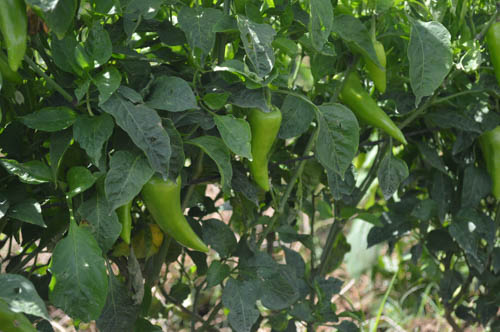ChiliPepper: (150, 175, 206, 256), (348, 77, 407, 143), (241, 107, 281, 203), (1, 3, 25, 59), (368, 44, 389, 91)
